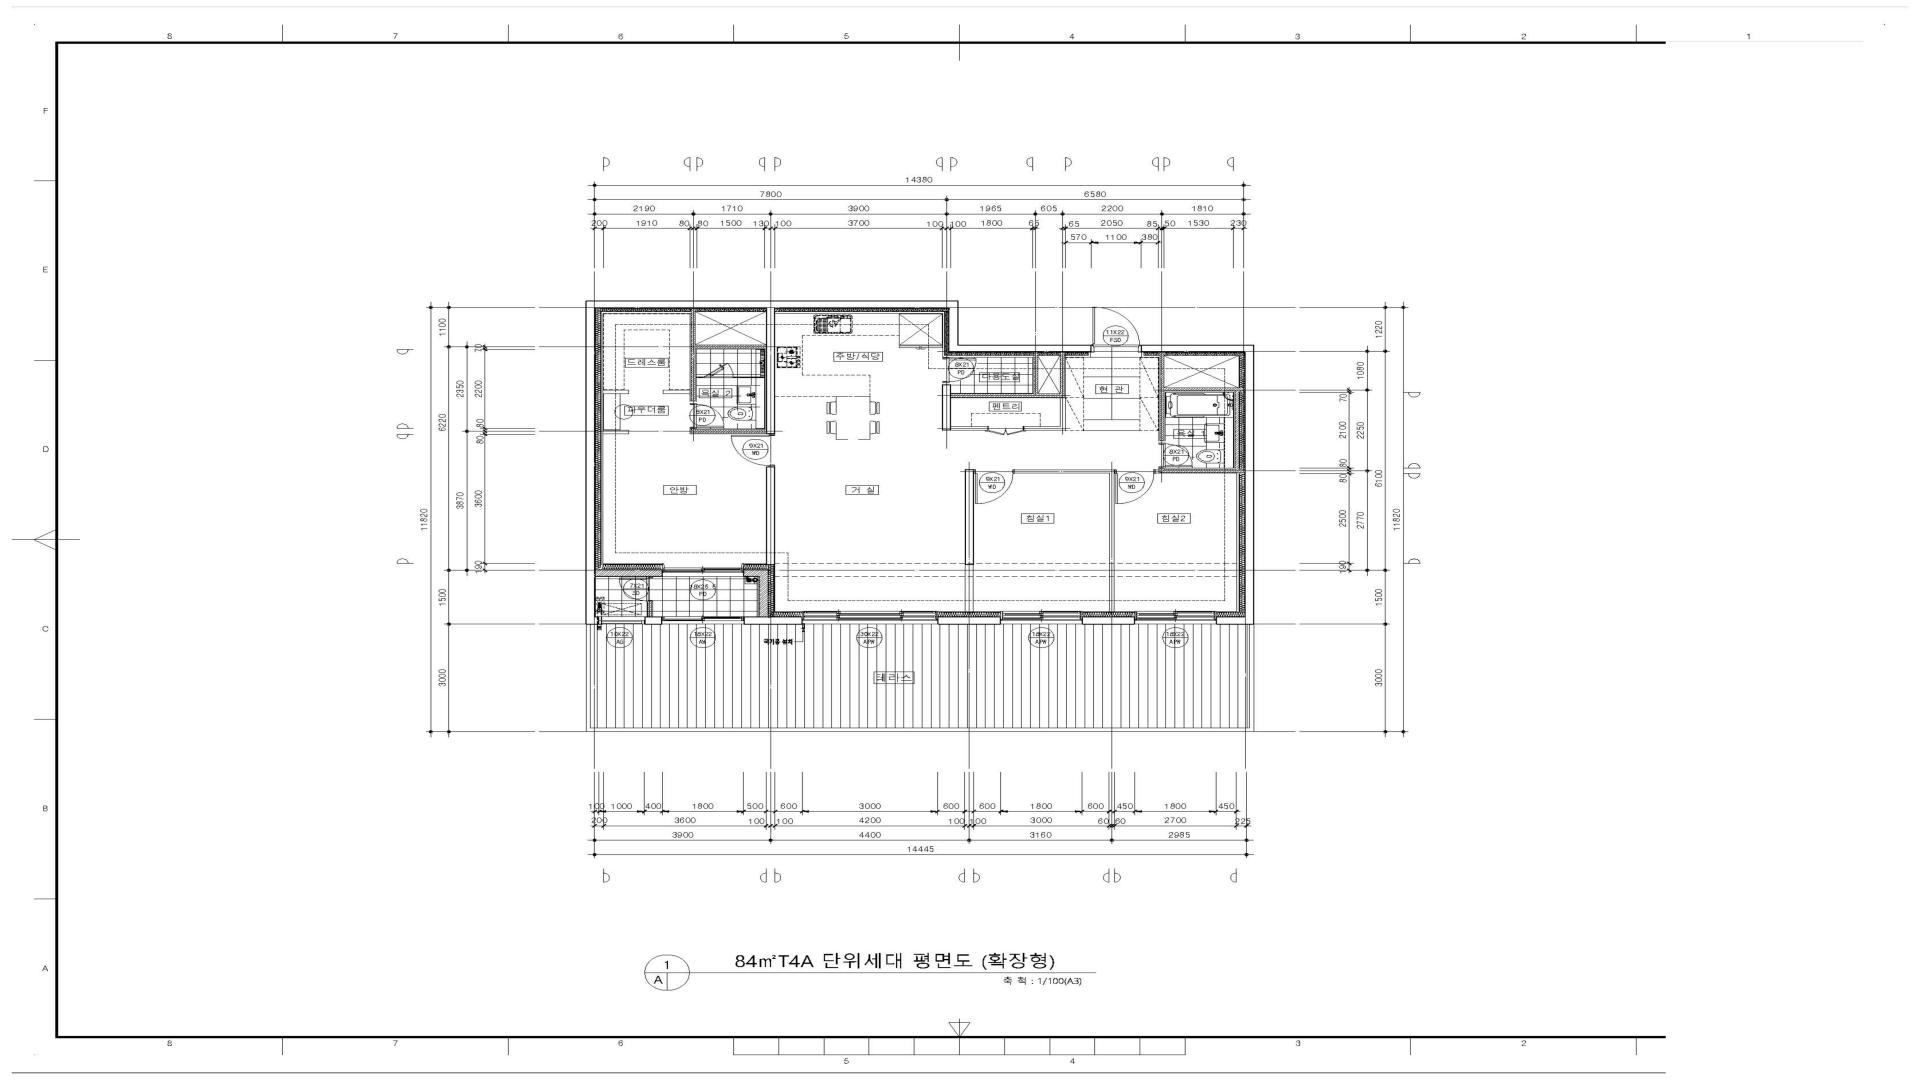door: (1091, 307, 1141, 352), (731, 434, 775, 467), (1114, 469, 1155, 505), (973, 469, 1015, 504), (1158, 442, 1193, 468), (942, 357, 977, 384), (690, 402, 724, 429), (618, 576, 653, 601), (988, 426, 1025, 436)
wall: (585, 301, 1091, 625), (1141, 344, 1254, 625), (1014, 469, 1114, 612), (1155, 352, 1245, 473), (662, 309, 766, 402), (942, 353, 1065, 430), (965, 469, 975, 612), (744, 568, 769, 616), (766, 467, 775, 566), (938, 616, 1001, 625), (744, 616, 803, 625), (596, 568, 663, 576), (1081, 616, 1135, 625), (690, 429, 766, 434), (645, 617, 662, 625), (603, 430, 629, 434), (603, 390, 629, 394), (646, 601, 653, 616)
window: (802, 611, 938, 625), (662, 563, 744, 578), (1134, 611, 1216, 625), (1001, 611, 1083, 625), (662, 616, 744, 625), (599, 617, 645, 625)
